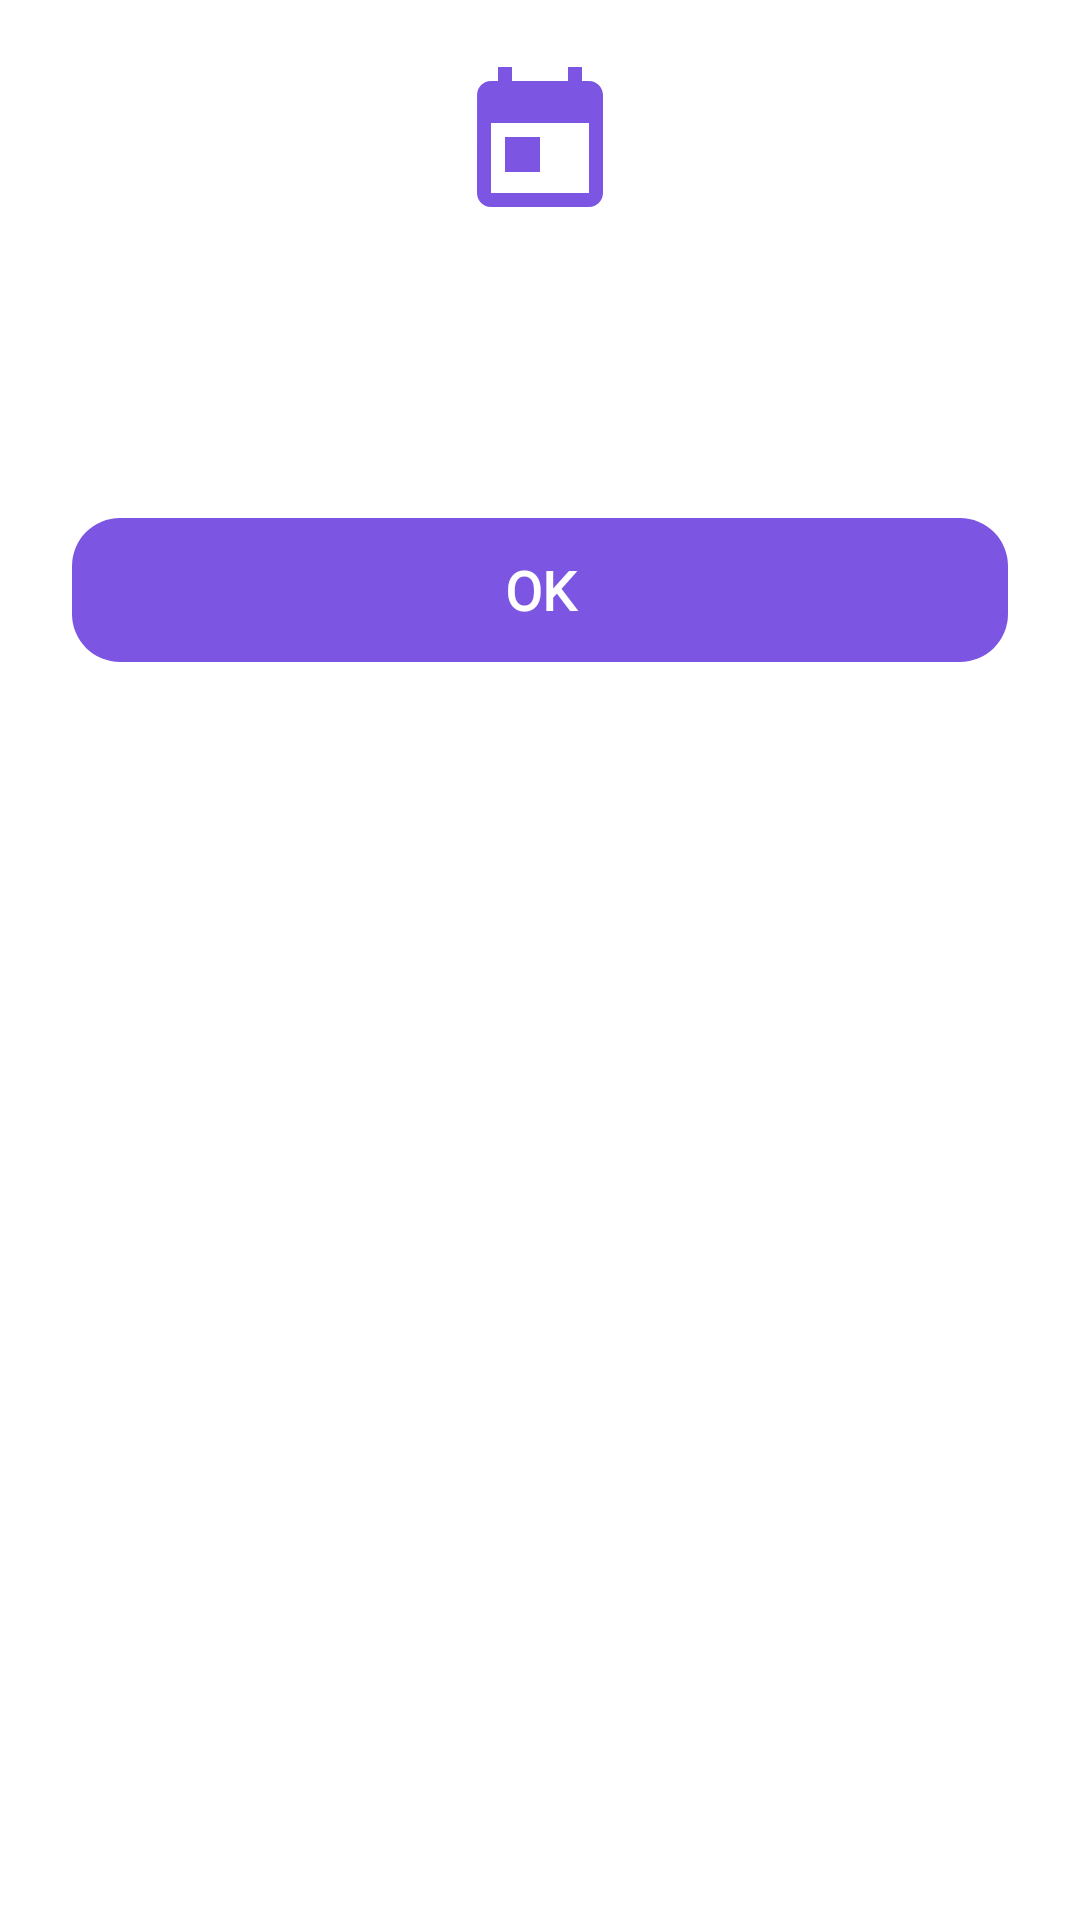

Icon bounding boxes for this 1080w x 1920h phone screenshot, format box=[x1, y1, x2, y2]:
calendar: box=[477, 67, 603, 207]
